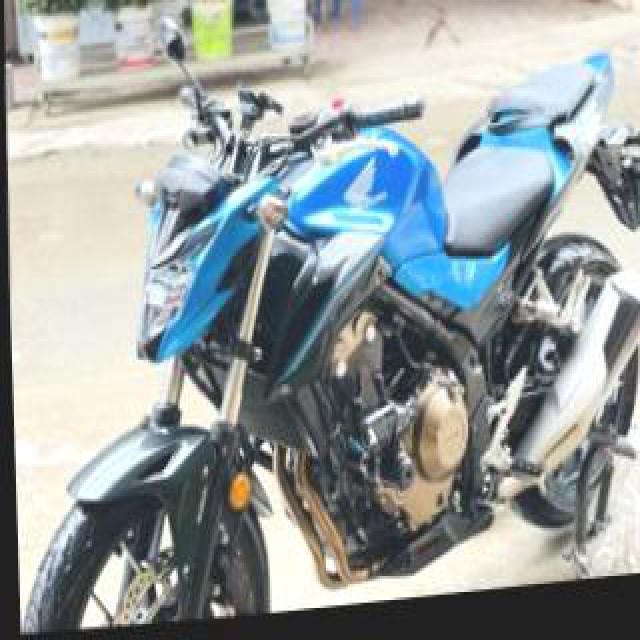CB500F: (4, 40, 638, 637)
